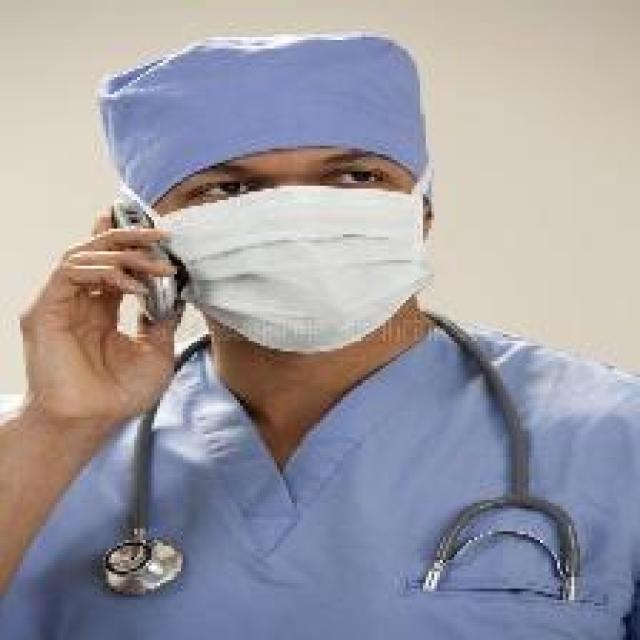Mask: (154, 191, 450, 350)
